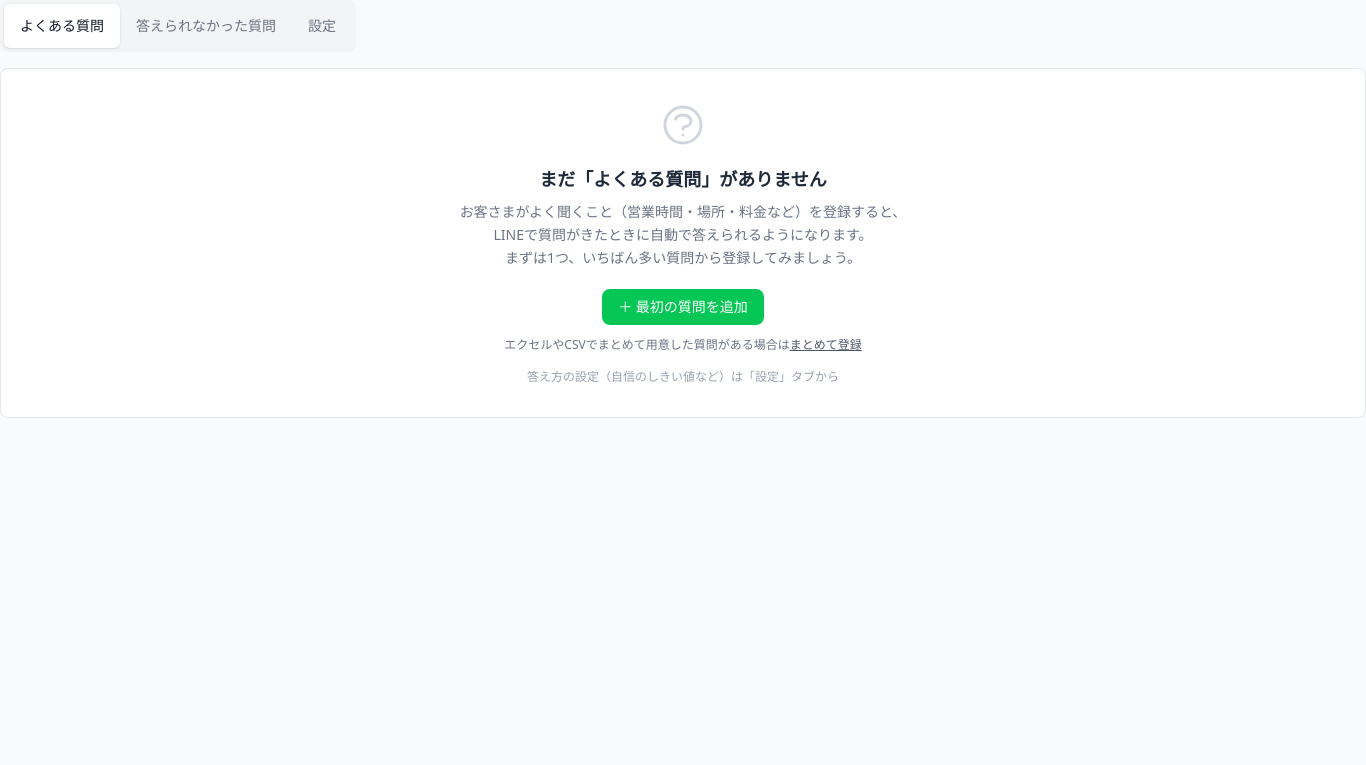
Test: /faqs 設定タブ — 質問者本人の登録情報 › GETの既定ON・全custom項目・フォーム回答・token上限を表示する
The width and height of the screenshot is (1366, 765).
Click the button "設定".
click(322, 26)  # box [292,4,352,48]
(page scrolled)
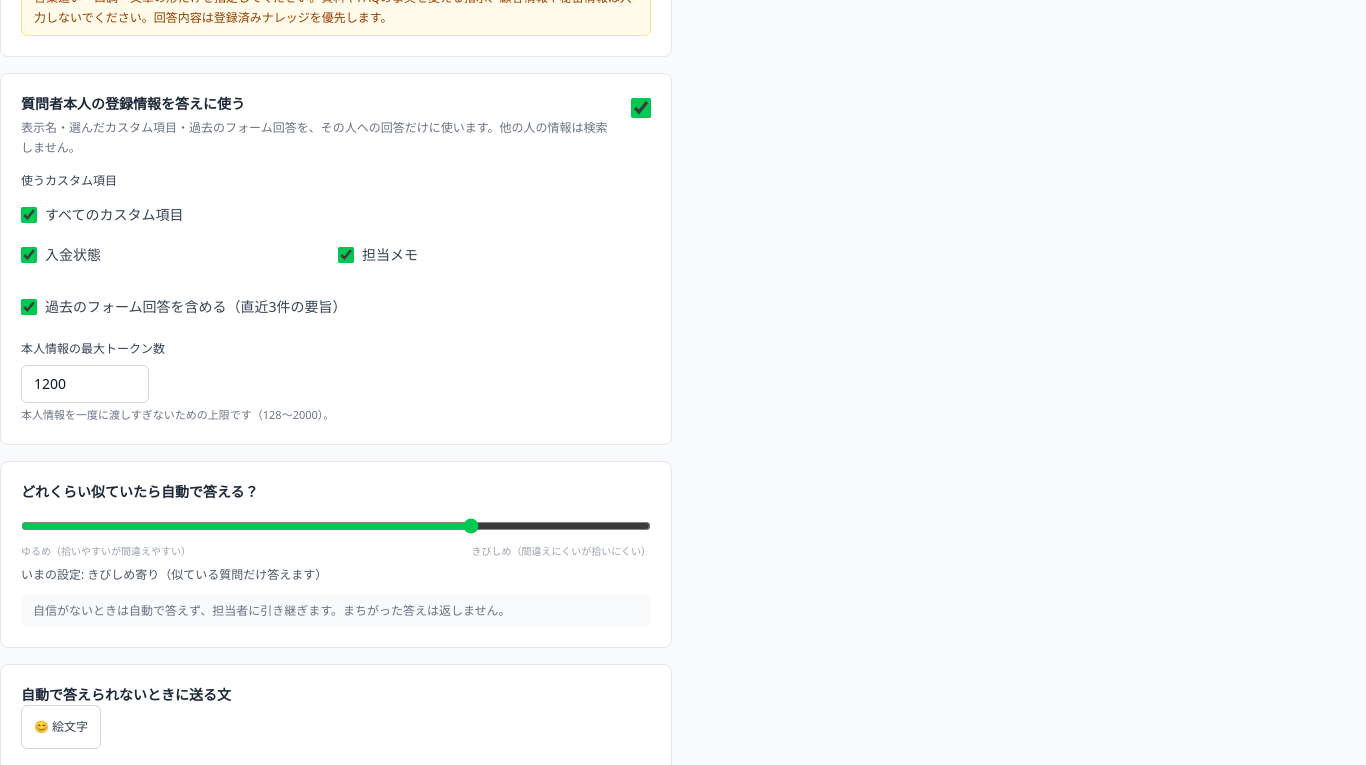
Expected: the checkbox named "本人情報を回答に使う" is checked, [631,98,651,118]
Expected: the checkbox labelled "すべてのカスタム項目" is checked, [21,207,37,223]
Expected: the checkbox labelled "入金状態" is checked, [21,247,37,263]
